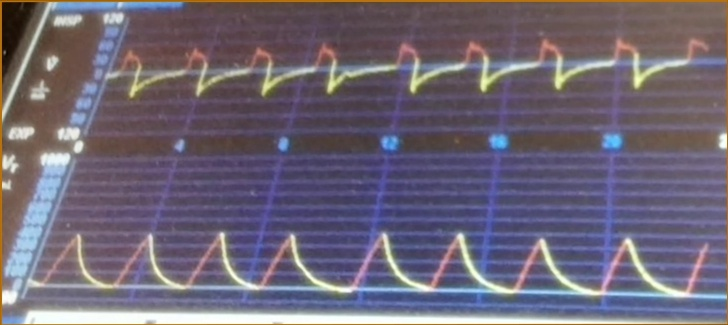Premature_cycling Flow: (117, 25, 709, 123)
Premature_cycling Volume: (43, 224, 710, 308)
